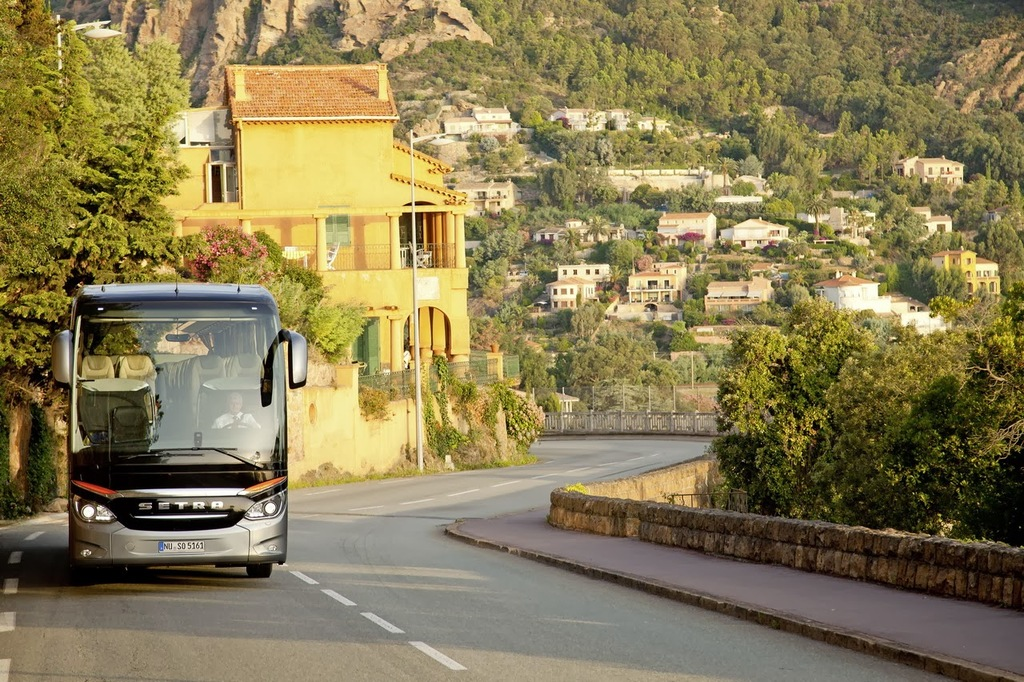Tree: (0, 0, 193, 374), (824, 295, 1023, 548), (528, 0, 892, 130), (711, 283, 919, 510), (520, 103, 931, 183), (799, 192, 832, 241), (666, 329, 703, 352), (715, 154, 734, 194), (608, 239, 640, 262), (604, 261, 627, 290)
